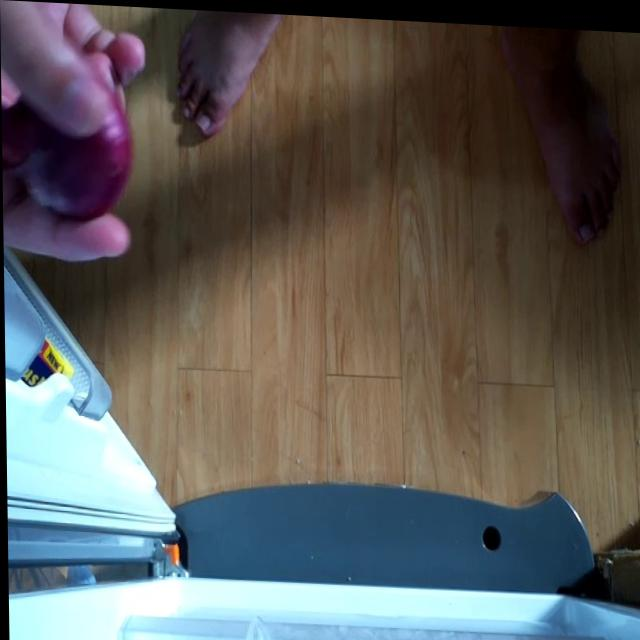onion: (1, 74, 132, 217)
